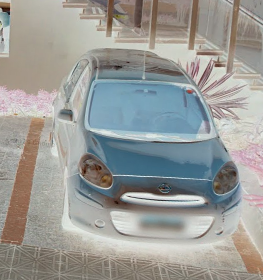car: (50, 49, 243, 254)
